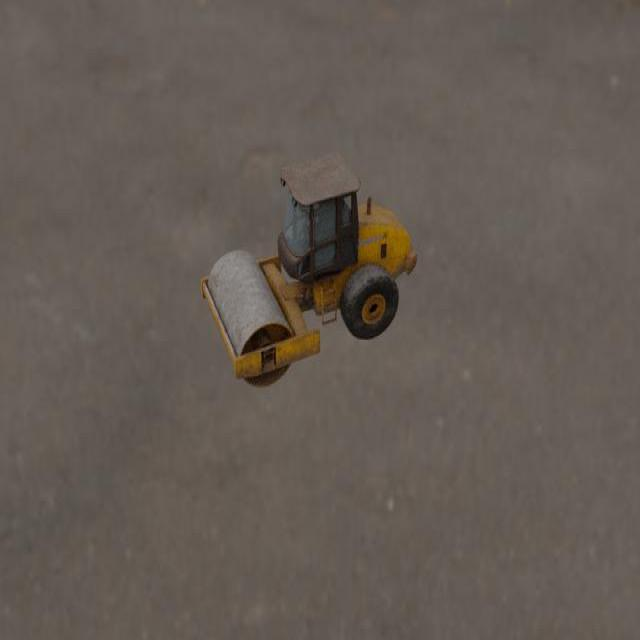Roller: (200, 151, 417, 388)
